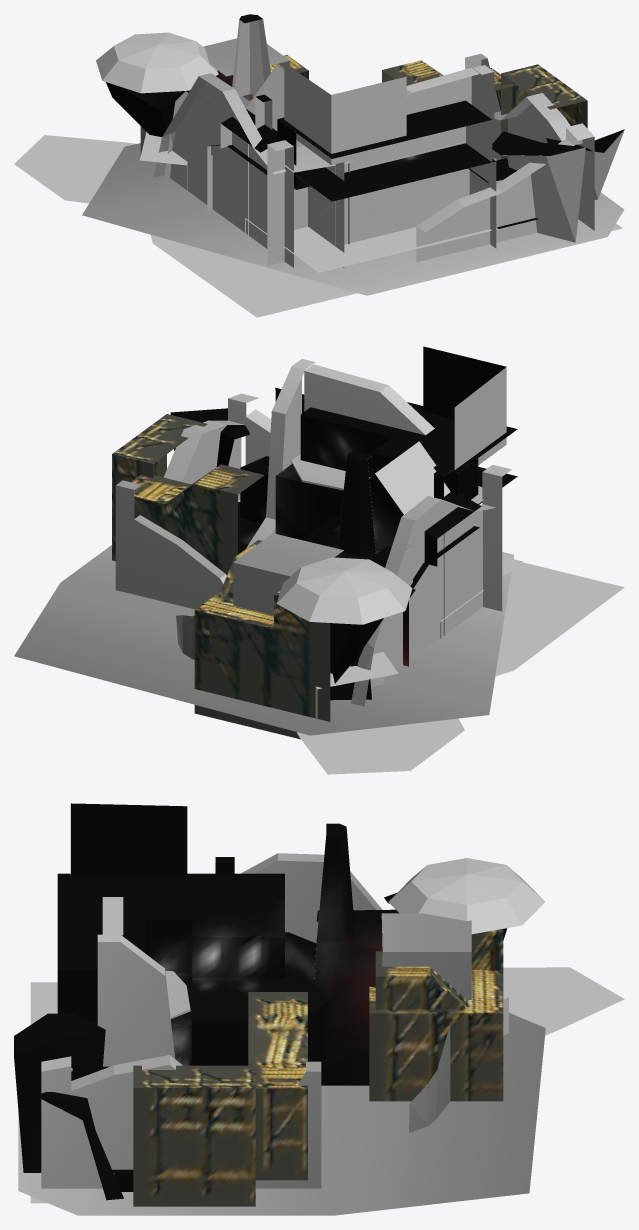
Rendered from T_Workshop_01.fbx.
3 views of the same model, one above another, from view 1: azimuth 30°, elevation 25°; view 2: azimuth 150°, elevation 25°; view 3: azimuth 270°, elevation 25° (orthographic). The views are drawn at different scales.
Visible parts, largest first — view 1: T_Workshop_01, T_Workshop_01_Lock, FX_BuildUnLock_Glow, FX_Territory_NightGlow, T_BuildForm_02 (4), T_BuildForm_03 (1), T_BuildForm_01; view 2: FX_BuildUnLock_Glow, FX_Territory_NightGlow, T_Workshop_01, T_BuildForm_01, T_Workshop_01_Lock, T_BuildForm_03 (1), T_BuildForm_02 (4); view 3: FX_BuildUnLock_Glow, FX_Territory_NightGlow, T_BuildForm_01, T_BuildForm_02 (4), T_Workshop_01, T_BuildForm_03 (1).
Boxes of the visible parts, x1,y1,x2,y2 form: T_Workshop_01: (14, 19, 624, 317); T_Workshop_01_Lock: (153, 58, 594, 267); FX_BuildUnLock_Glow: (82, 38, 624, 295); FX_Territory_NightGlow: (106, 14, 624, 228); T_BuildForm_02 (4): (501, 64, 587, 159); T_BuildForm_03 (1): (382, 60, 515, 110); T_BuildForm_01: (140, 55, 308, 155); FX_BuildUnLock_Glow: (14, 359, 513, 735); FX_Territory_NightGlow: (170, 346, 517, 700); T_Workshop_01: (228, 367, 624, 774); T_BuildForm_01: (194, 540, 330, 739); T_Workshop_01_Lock: (134, 376, 511, 716); T_BuildForm_03 (1): (130, 464, 264, 575); T_BuildForm_02 (4): (112, 414, 207, 561); FX_BuildUnLock_Glow: (18, 853, 545, 1215); FX_Territory_NightGlow: (14, 803, 506, 1200); T_BuildForm_01: (369, 929, 503, 1101); T_BuildForm_02 (4): (133, 1065, 255, 1206); T_Workshop_01: (15, 803, 624, 1203); T_BuildForm_03 (1): (248, 992, 307, 1180).
Size of the model in its own units: 11.2 by 5.44 by 11.54.
